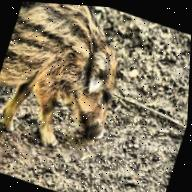boar: (0, 0, 154, 184)
